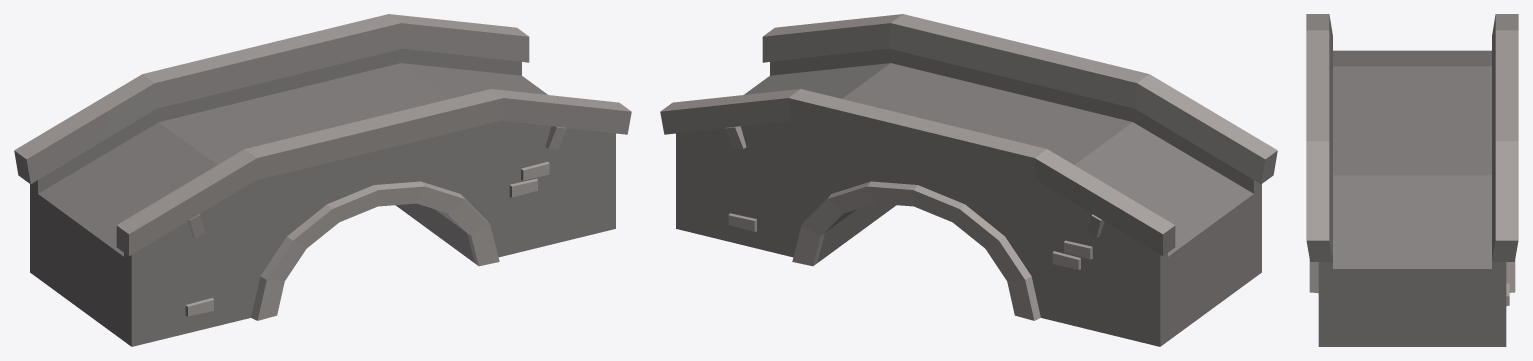
The model's file is bridge-medieval-stone.glb.
3 views of the same model, side by side, from view 1: azimuth 30°, elevation 25°; view 2: azimuth 150°, elevation 25°; view 3: azimuth 270°, elevation 25° (orthographic). The views are drawn at different scales.
Parts seen in each view (by area): view 1: bridge-medieval_stone; view 2: bridge-medieval_stone; view 3: bridge-medieval_stone.
Boxes of the visible parts, box(x1,y1,x2,y2) form: bridge-medieval_stone: box(14, 14, 631, 346); bridge-medieval_stone: box(660, 14, 1277, 346); bridge-medieval_stone: box(1306, 14, 1518, 346).
Size of the model in its own units: 10.85 by 3.39 by 4.29.
1 material, 1 textured.
